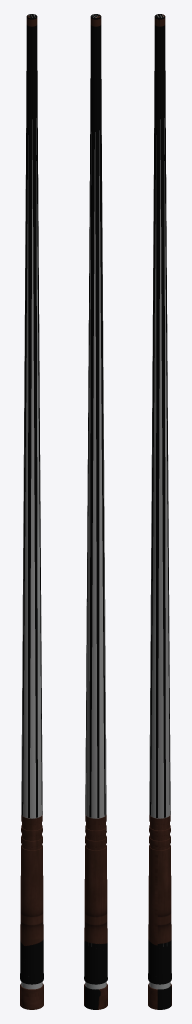
File: cue.fbx
3 renders of one model, left to right at view 1: azimuth 90°, elevation 25°; view 2: azimuth 210°, elevation 25°; view 3: azimuth 270°, elevation 25°, orthographic.
Visible parts, largest first — view 1: cue; view 2: cue; view 3: cue.
Part boxes in pixels (x1,y1,x2,y2): cue: [20, 14, 43, 1009]; cue: [84, 14, 107, 1009]; cue: [148, 14, 171, 1009].
Size of the model in its own units: 2.35 by 107 by 2.35.
